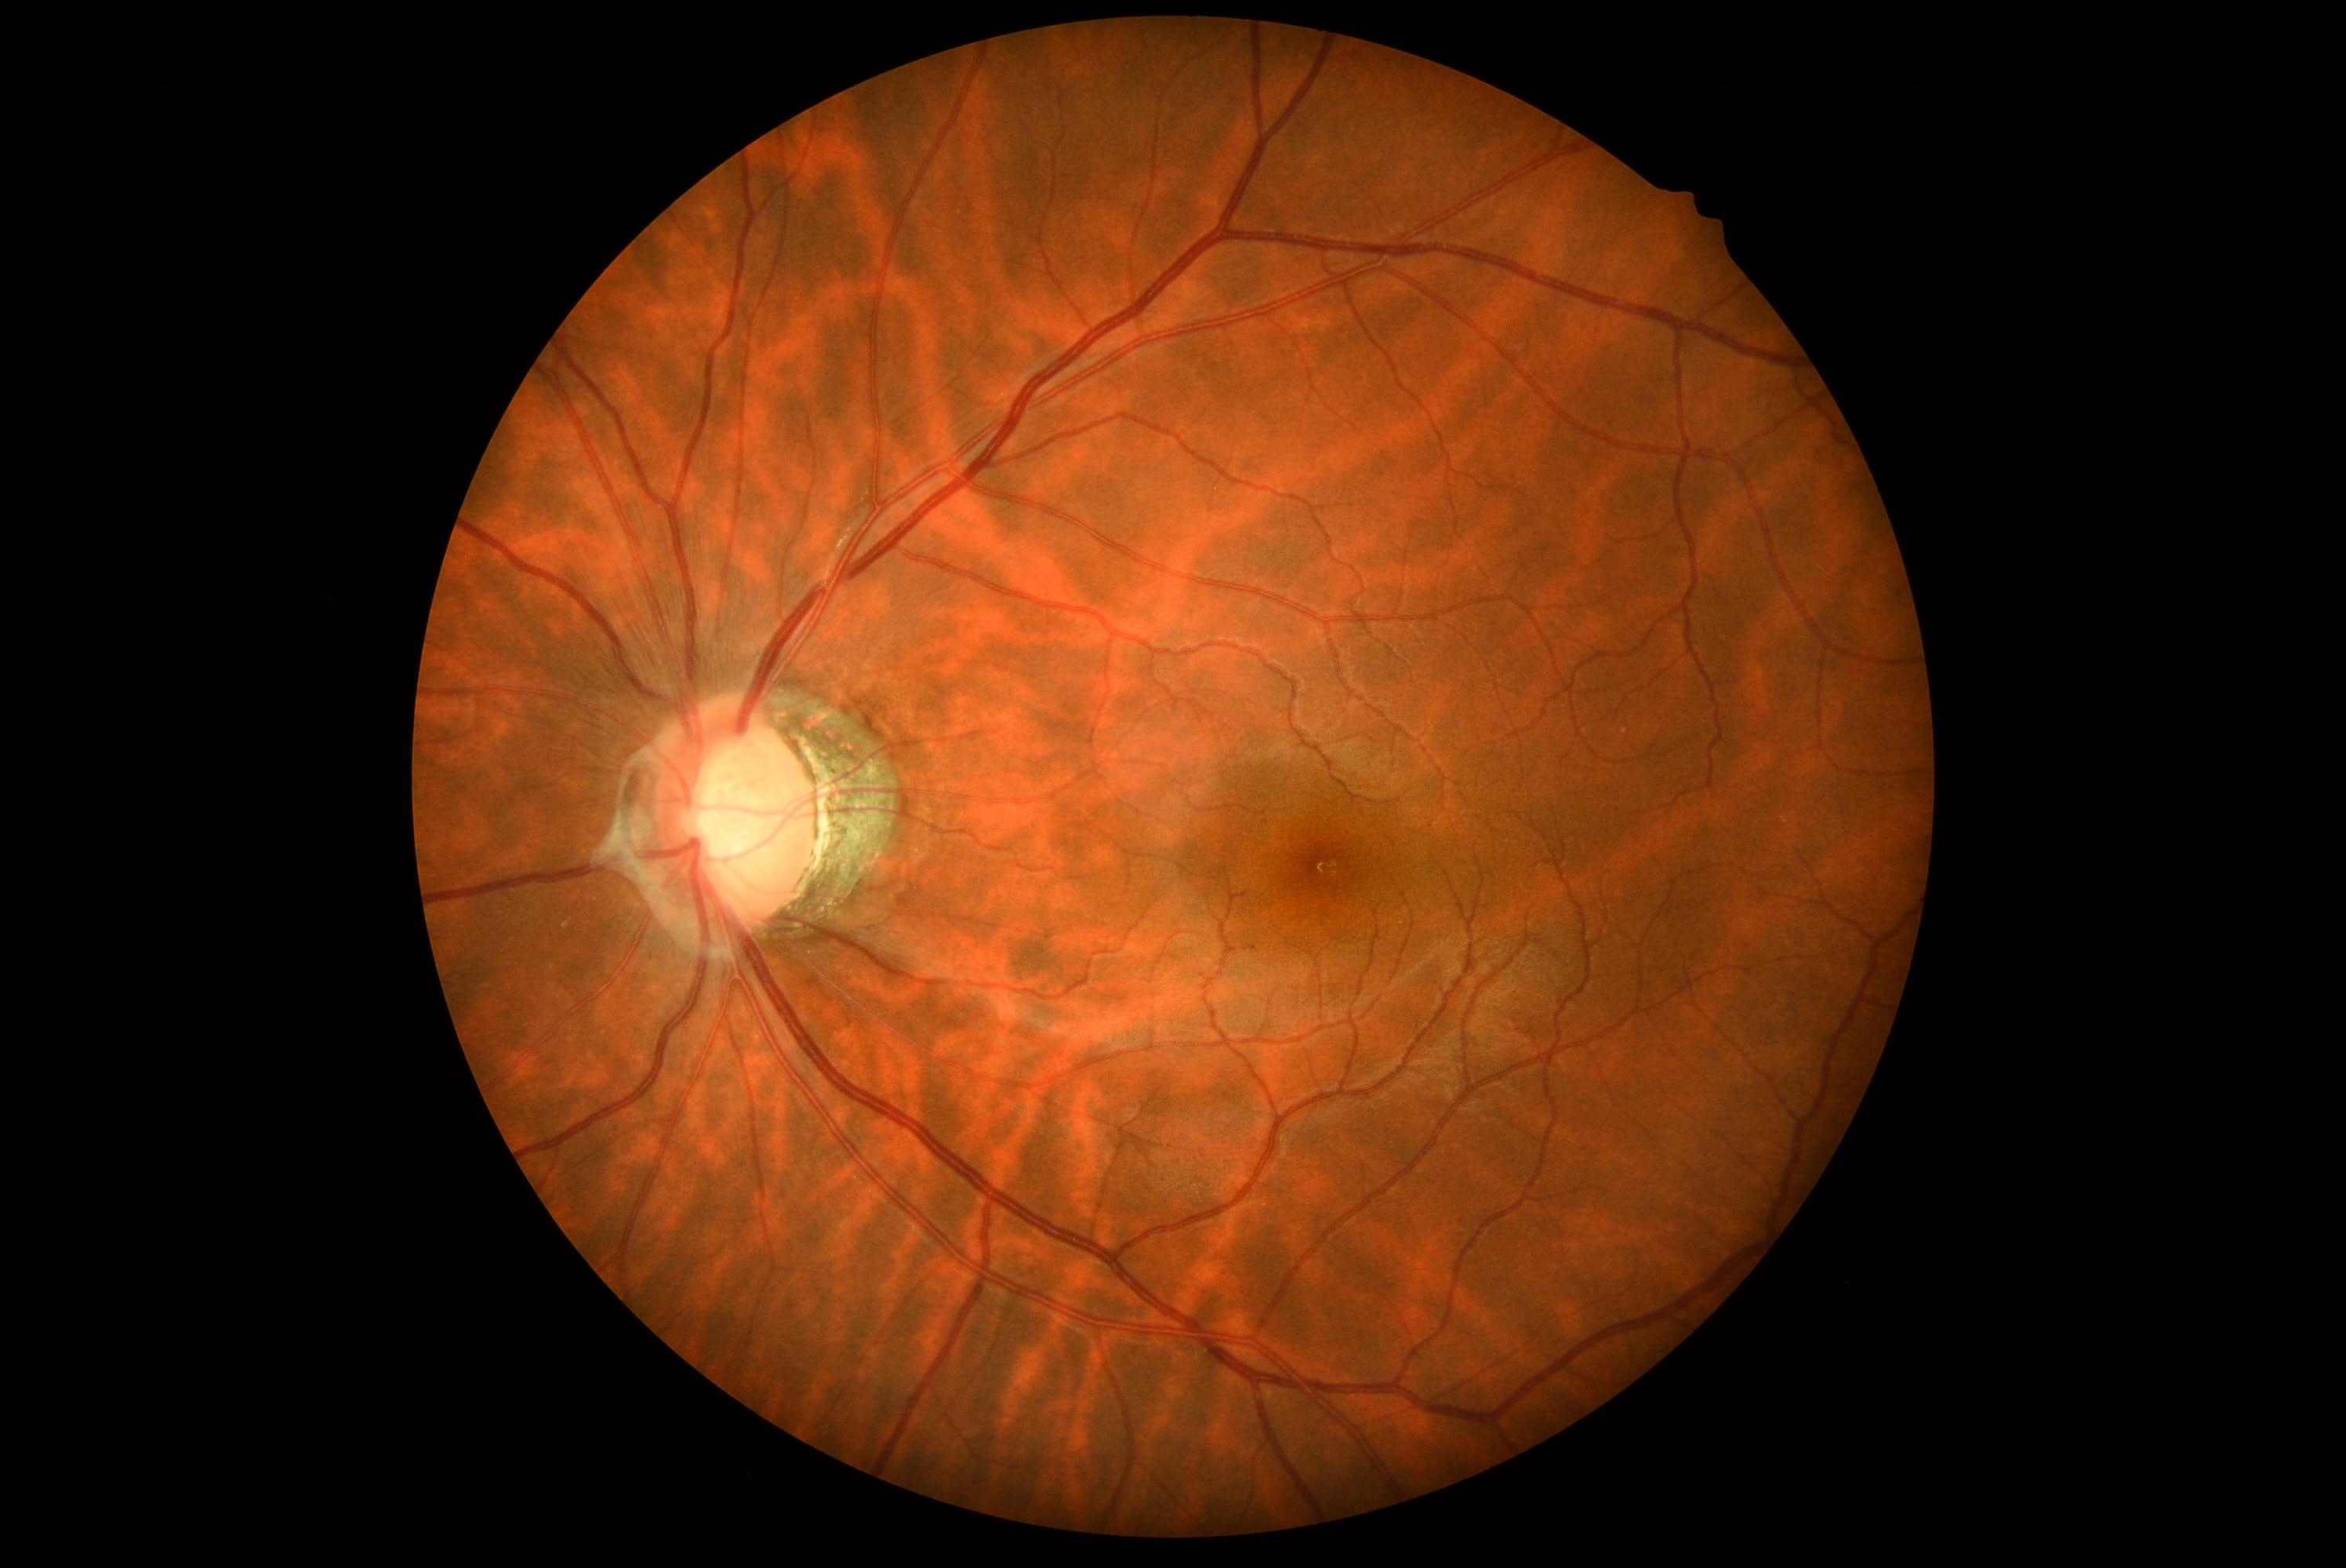Fovea: (1251, 793, 1394, 935)
